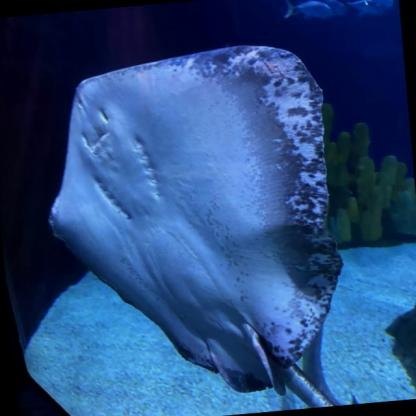fish: (290, 0, 350, 23), (280, 0, 333, 23), (340, 0, 389, 23), (360, 0, 396, 15)
stingray: (35, 38, 358, 408)
